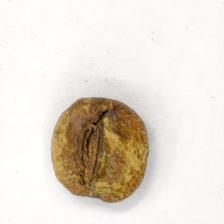NG: (52, 97, 145, 202)
